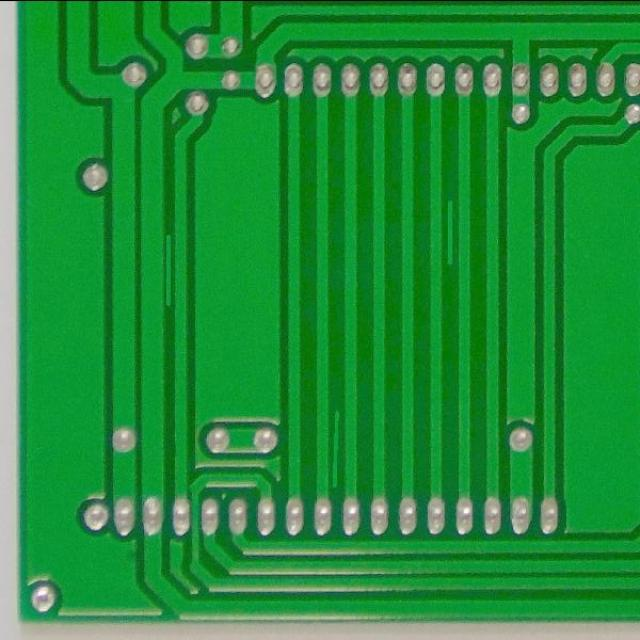Spurious_Cooper: (330, 405, 346, 492), (442, 194, 458, 270), (161, 230, 176, 310)
